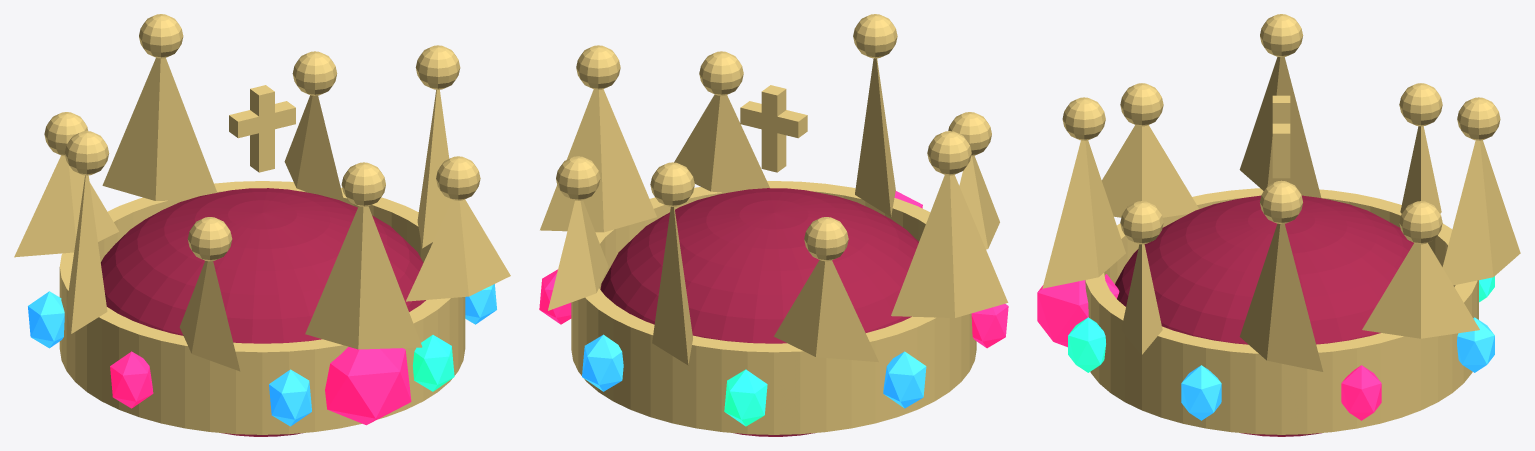
Rendered from crown.glb.
The picture shows the model from 3 angles, left to right: view 1: azimuth 30°, elevation 25°; view 2: azimuth 150°, elevation 25°; view 3: azimuth 270°, elevation 25°; orthographic projection. The views are drawn at different scales.
Visible parts, largest first — view 1: Crown; view 2: Crown; view 3: Crown.
Part boxes in pixels (x1,y1,x2,y2): Crown: (14,14,510,436); Crown: (539,14,1008,436); Crown: (1037,14,1520,436).
Size of the model in its own units: 0.4849 by 0.3505 by 0.49.
